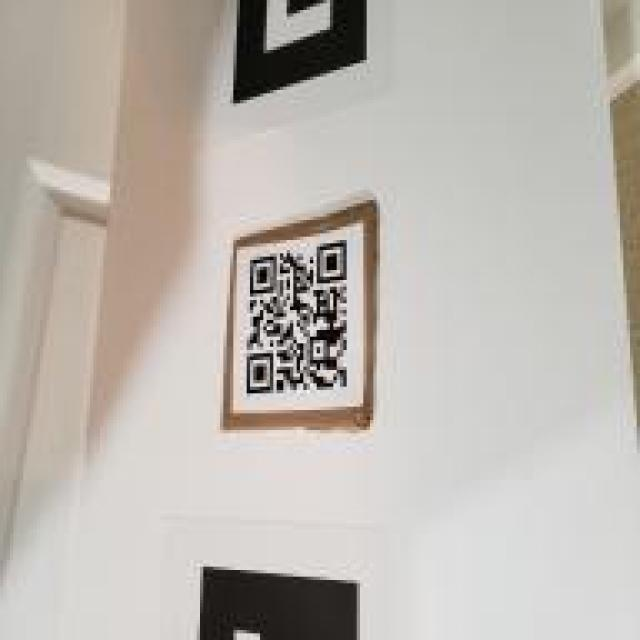QR_CODE: (240, 232, 355, 403)
